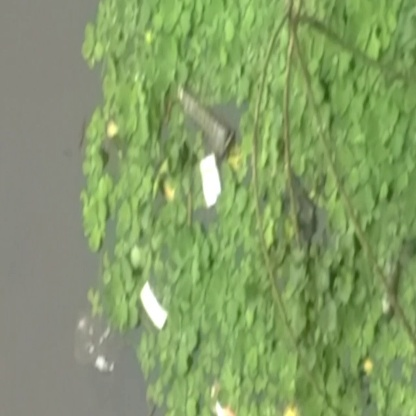leaf: (80, 173, 115, 249)
